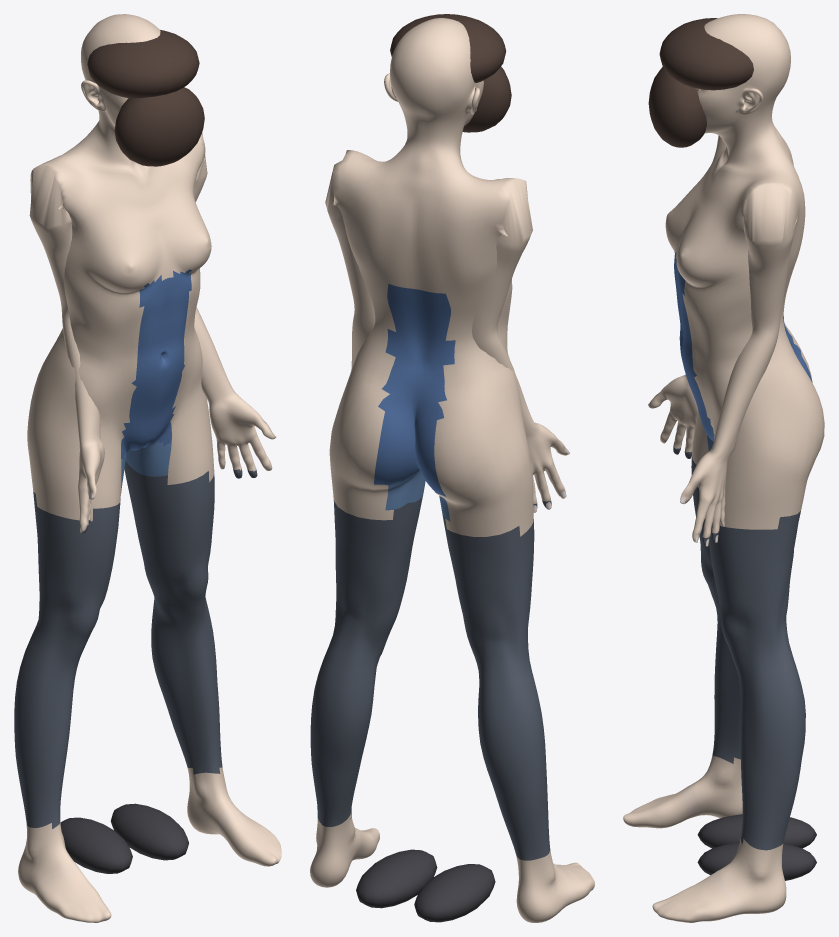
The model's file is hm_ped_rae_v15.glb.
3 views of the same model, side by side, from view 1: azimuth 30°, elevation 25°; view 2: azimuth 150°, elevation 25°; view 3: azimuth 270°, elevation 25° (orthographic). The views are drawn at different scales.
Visible parts, largest first — view 1: hm_ped_rae; view 2: hm_ped_rae; view 3: hm_ped_rae.
Part boxes in pixels (bbox=[...]): hm_ped_rae: bbox=[14, 14, 281, 922]; hm_ped_rae: bbox=[310, 14, 594, 922]; hm_ped_rae: bbox=[623, 14, 824, 922].
Bounding box in the file's own units: 0.5111 × 1.72 × 0.3705.
